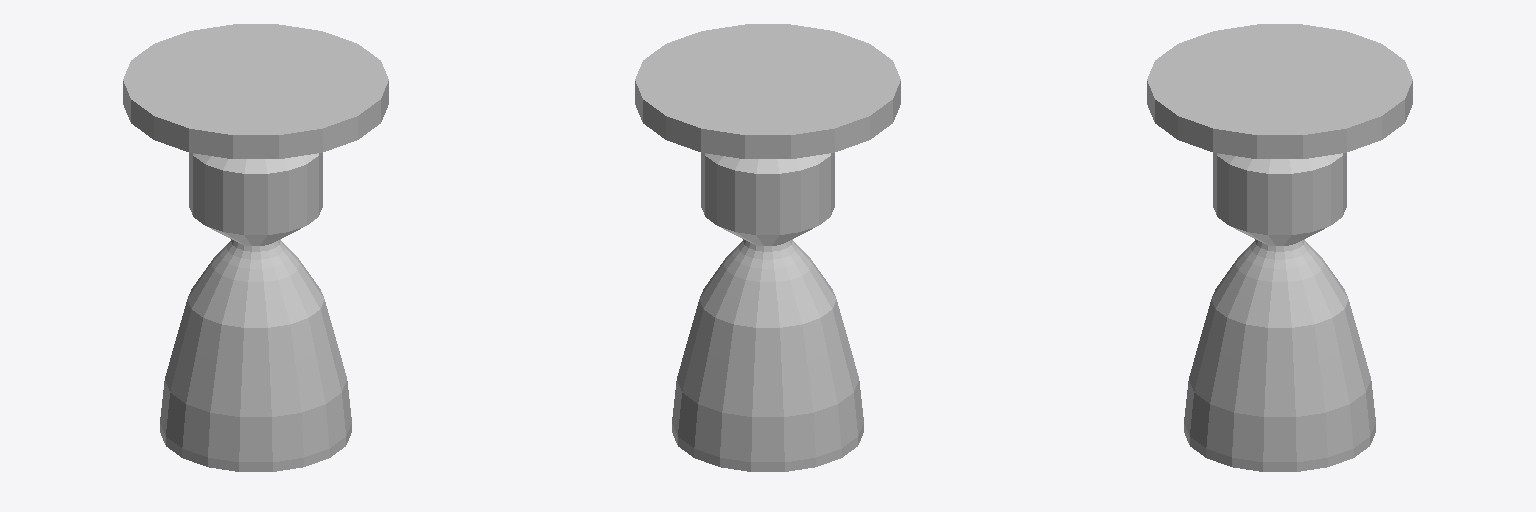
Rendered from blackenginekestrel.obj.
3 views of the same model, side by side, from view 1: azimuth 30°, elevation 25°; view 2: azimuth 150°, elevation 25°; view 3: azimuth 270°, elevation 25° (orthographic).
Parts seen in each view (by area): view 1: Body_Cylinder.002, Base_Cylinder.003; view 2: Body_Cylinder.002, Base_Cylinder.003; view 3: Body_Cylinder.002, Base_Cylinder.003.
Boxes of the visible parts, box(x1,y1,x2,y2) form: Body_Cylinder.002: box(160, 153, 351, 471); Base_Cylinder.003: box(123, 24, 388, 158); Body_Cylinder.002: box(672, 153, 863, 471); Base_Cylinder.003: box(635, 24, 900, 158); Body_Cylinder.002: box(1184, 153, 1375, 471); Base_Cylinder.003: box(1147, 24, 1412, 158).
Bounding box in the file's own units: 0.4924 × 0.7302 × 0.5.